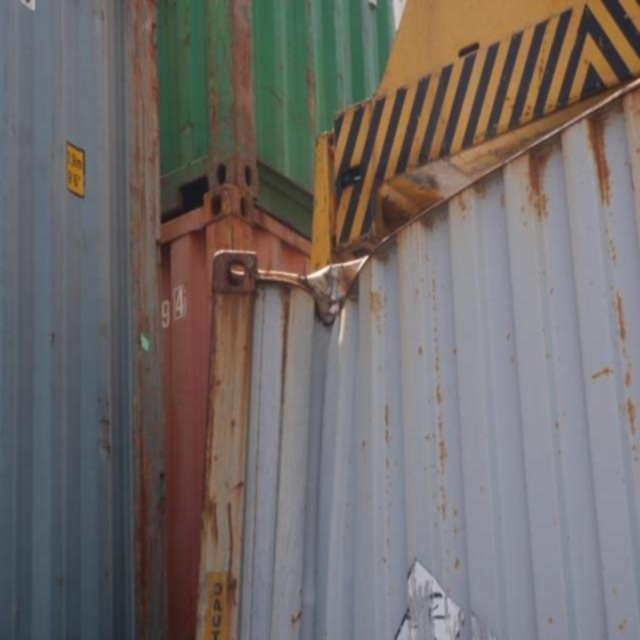Dent: (255, 218, 409, 328)
